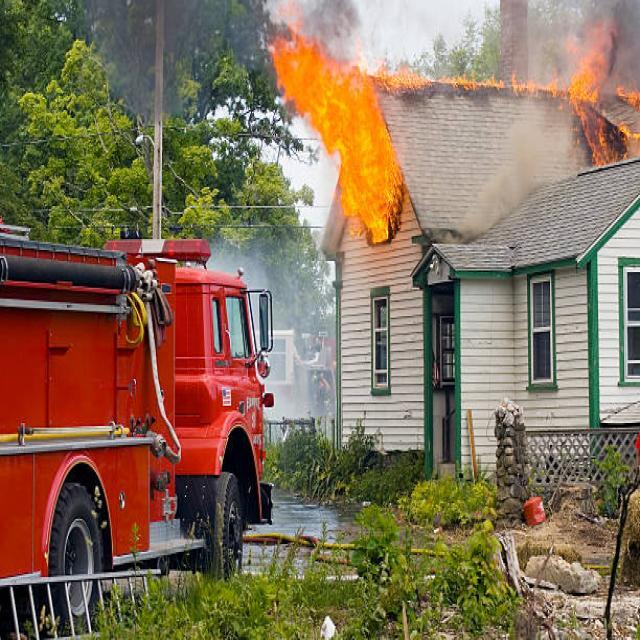Fire: (289, 34, 402, 234), (550, 24, 628, 160), (374, 52, 556, 108)
Smoke: (476, 110, 544, 236)
